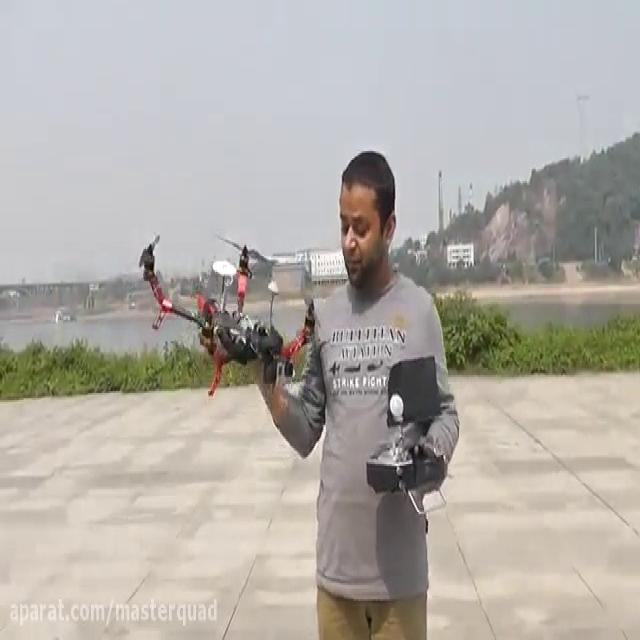drone: (136, 228, 325, 402)
